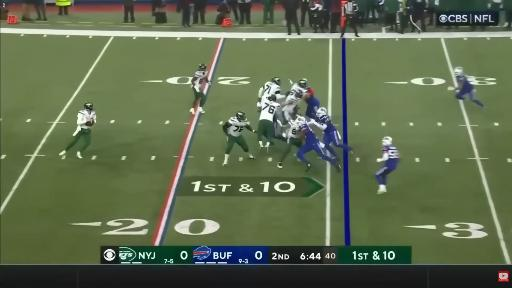Helmet: (316, 107, 327, 117), (295, 116, 306, 125), (236, 112, 246, 121), (84, 102, 94, 111), (298, 79, 307, 88), (382, 137, 392, 145), (271, 77, 281, 85), (454, 67, 463, 75), (268, 95, 276, 101), (199, 64, 206, 70)
Jersey: (316, 115, 340, 146), (261, 82, 285, 104), (260, 99, 280, 121), (228, 117, 249, 136), (382, 145, 399, 168), (316, 115, 336, 133), (299, 124, 318, 142), (456, 74, 474, 93), (283, 92, 300, 112), (78, 110, 96, 128), (305, 95, 319, 118), (194, 70, 207, 91), (287, 121, 299, 138), (291, 84, 307, 95), (305, 95, 319, 106)
Player: (296, 117, 341, 171), (312, 108, 353, 159), (59, 103, 96, 158), (223, 112, 256, 165), (375, 136, 400, 194), (274, 90, 302, 141), (454, 67, 485, 109), (258, 95, 280, 150), (278, 120, 302, 168), (257, 77, 285, 111), (190, 64, 209, 114), (298, 79, 319, 119), (282, 90, 302, 122), (289, 79, 307, 95)
